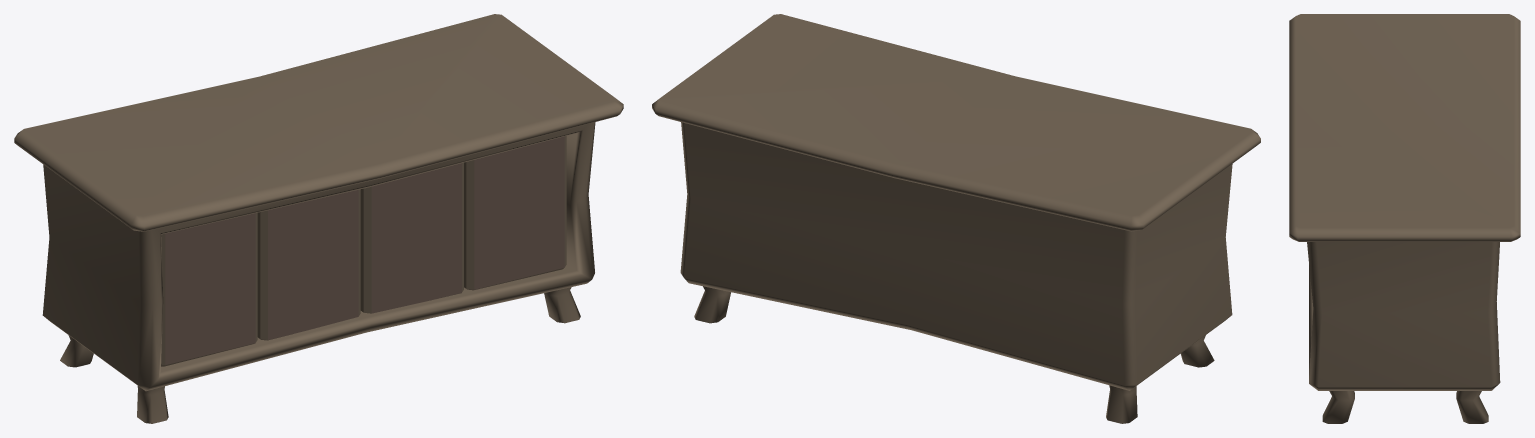
File: dressoir.fbx
3 views of the same model, side by side, from view 1: azimuth 30°, elevation 25°; view 2: azimuth 150°, elevation 25°; view 3: azimuth 270°, elevation 25° (orthographic). The views are drawn at different scales.
Parts seen in each view (by area): view 1: dressoir; view 2: dressoir; view 3: dressoir.
Part boxes in pixels (left/top/right/bottom): dressoir: left=14, top=14, right=623, bottom=423; dressoir: left=652, top=14, right=1260, bottom=423; dressoir: left=1289, top=14, right=1520, bottom=423.
Bounding box in the file's own units: 84.75 × 36.9 × 37.76.
